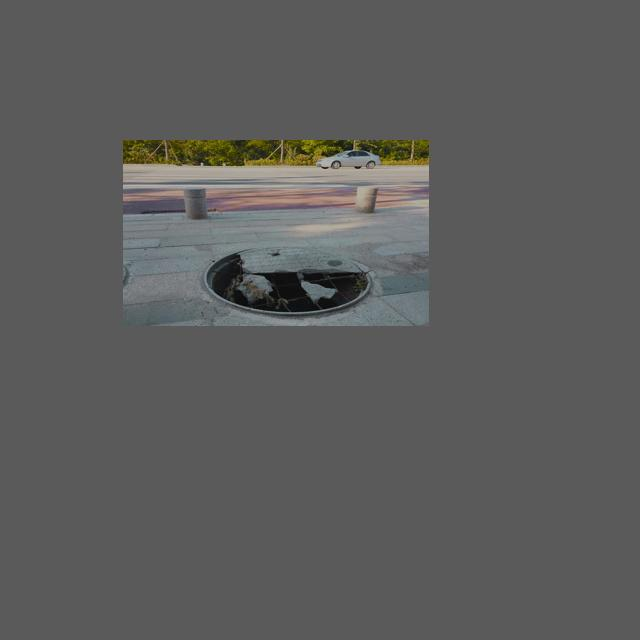broke: (197, 232, 376, 321)
